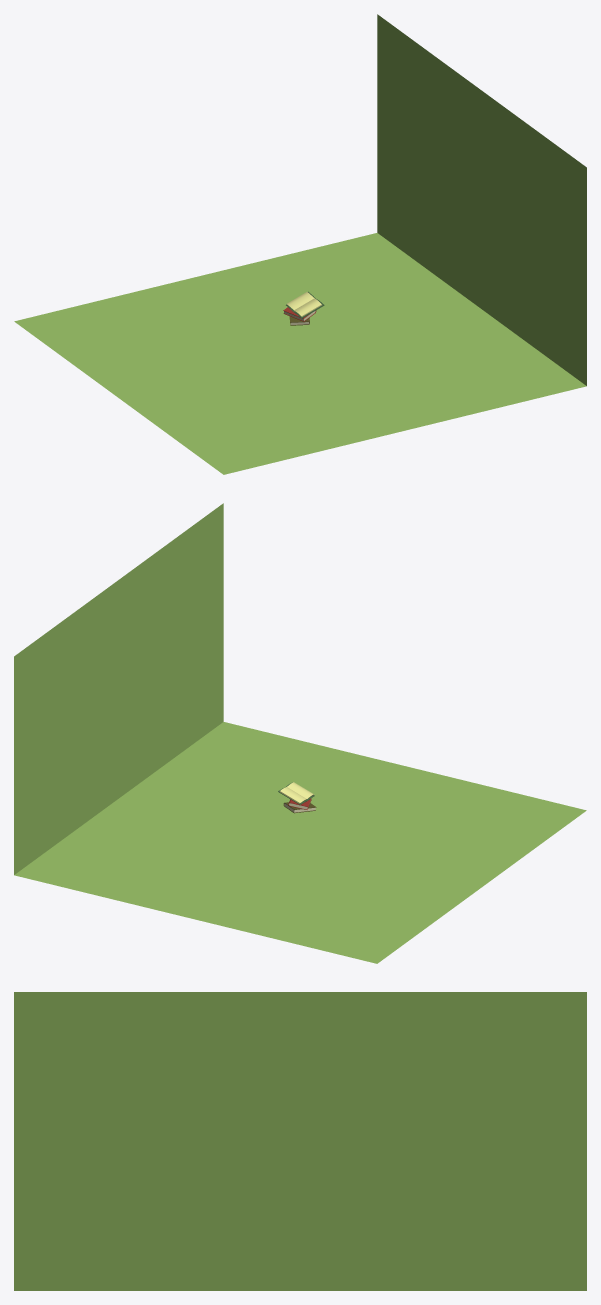
The model's file is materi.gltf.
The picture shows the model from 3 angles, top to bottom: view 1: azimuth 30°, elevation 25°; view 2: azimuth 150°, elevation 25°; view 3: azimuth 270°, elevation 25°; orthographic projection. The views are drawn at different scales.
Parts seen in each view (by area): view 1: bg, books; view 2: bg, books; view 3: bg.
Boxes of the visible parts, <box> form: bg: <box>14,14,586,474</box>; books: <box>283,291,324,325</box>; bg: <box>14,503,586,963</box>; books: <box>278,782,316,813</box>; bg: <box>14,992,586,1290</box>.
Bounding box in the file's own units: 10 × 5.75 × 10.
